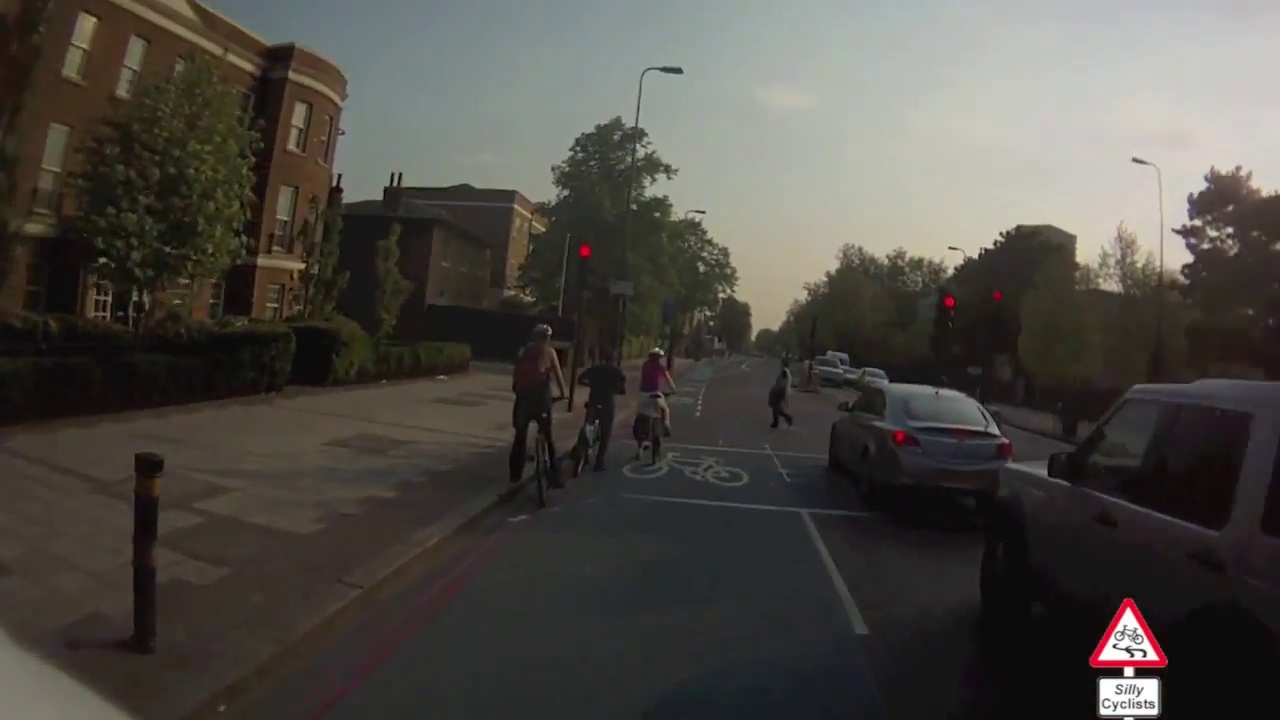cyclist_back: (503, 322, 566, 504), (574, 346, 633, 481), (630, 342, 685, 471)
